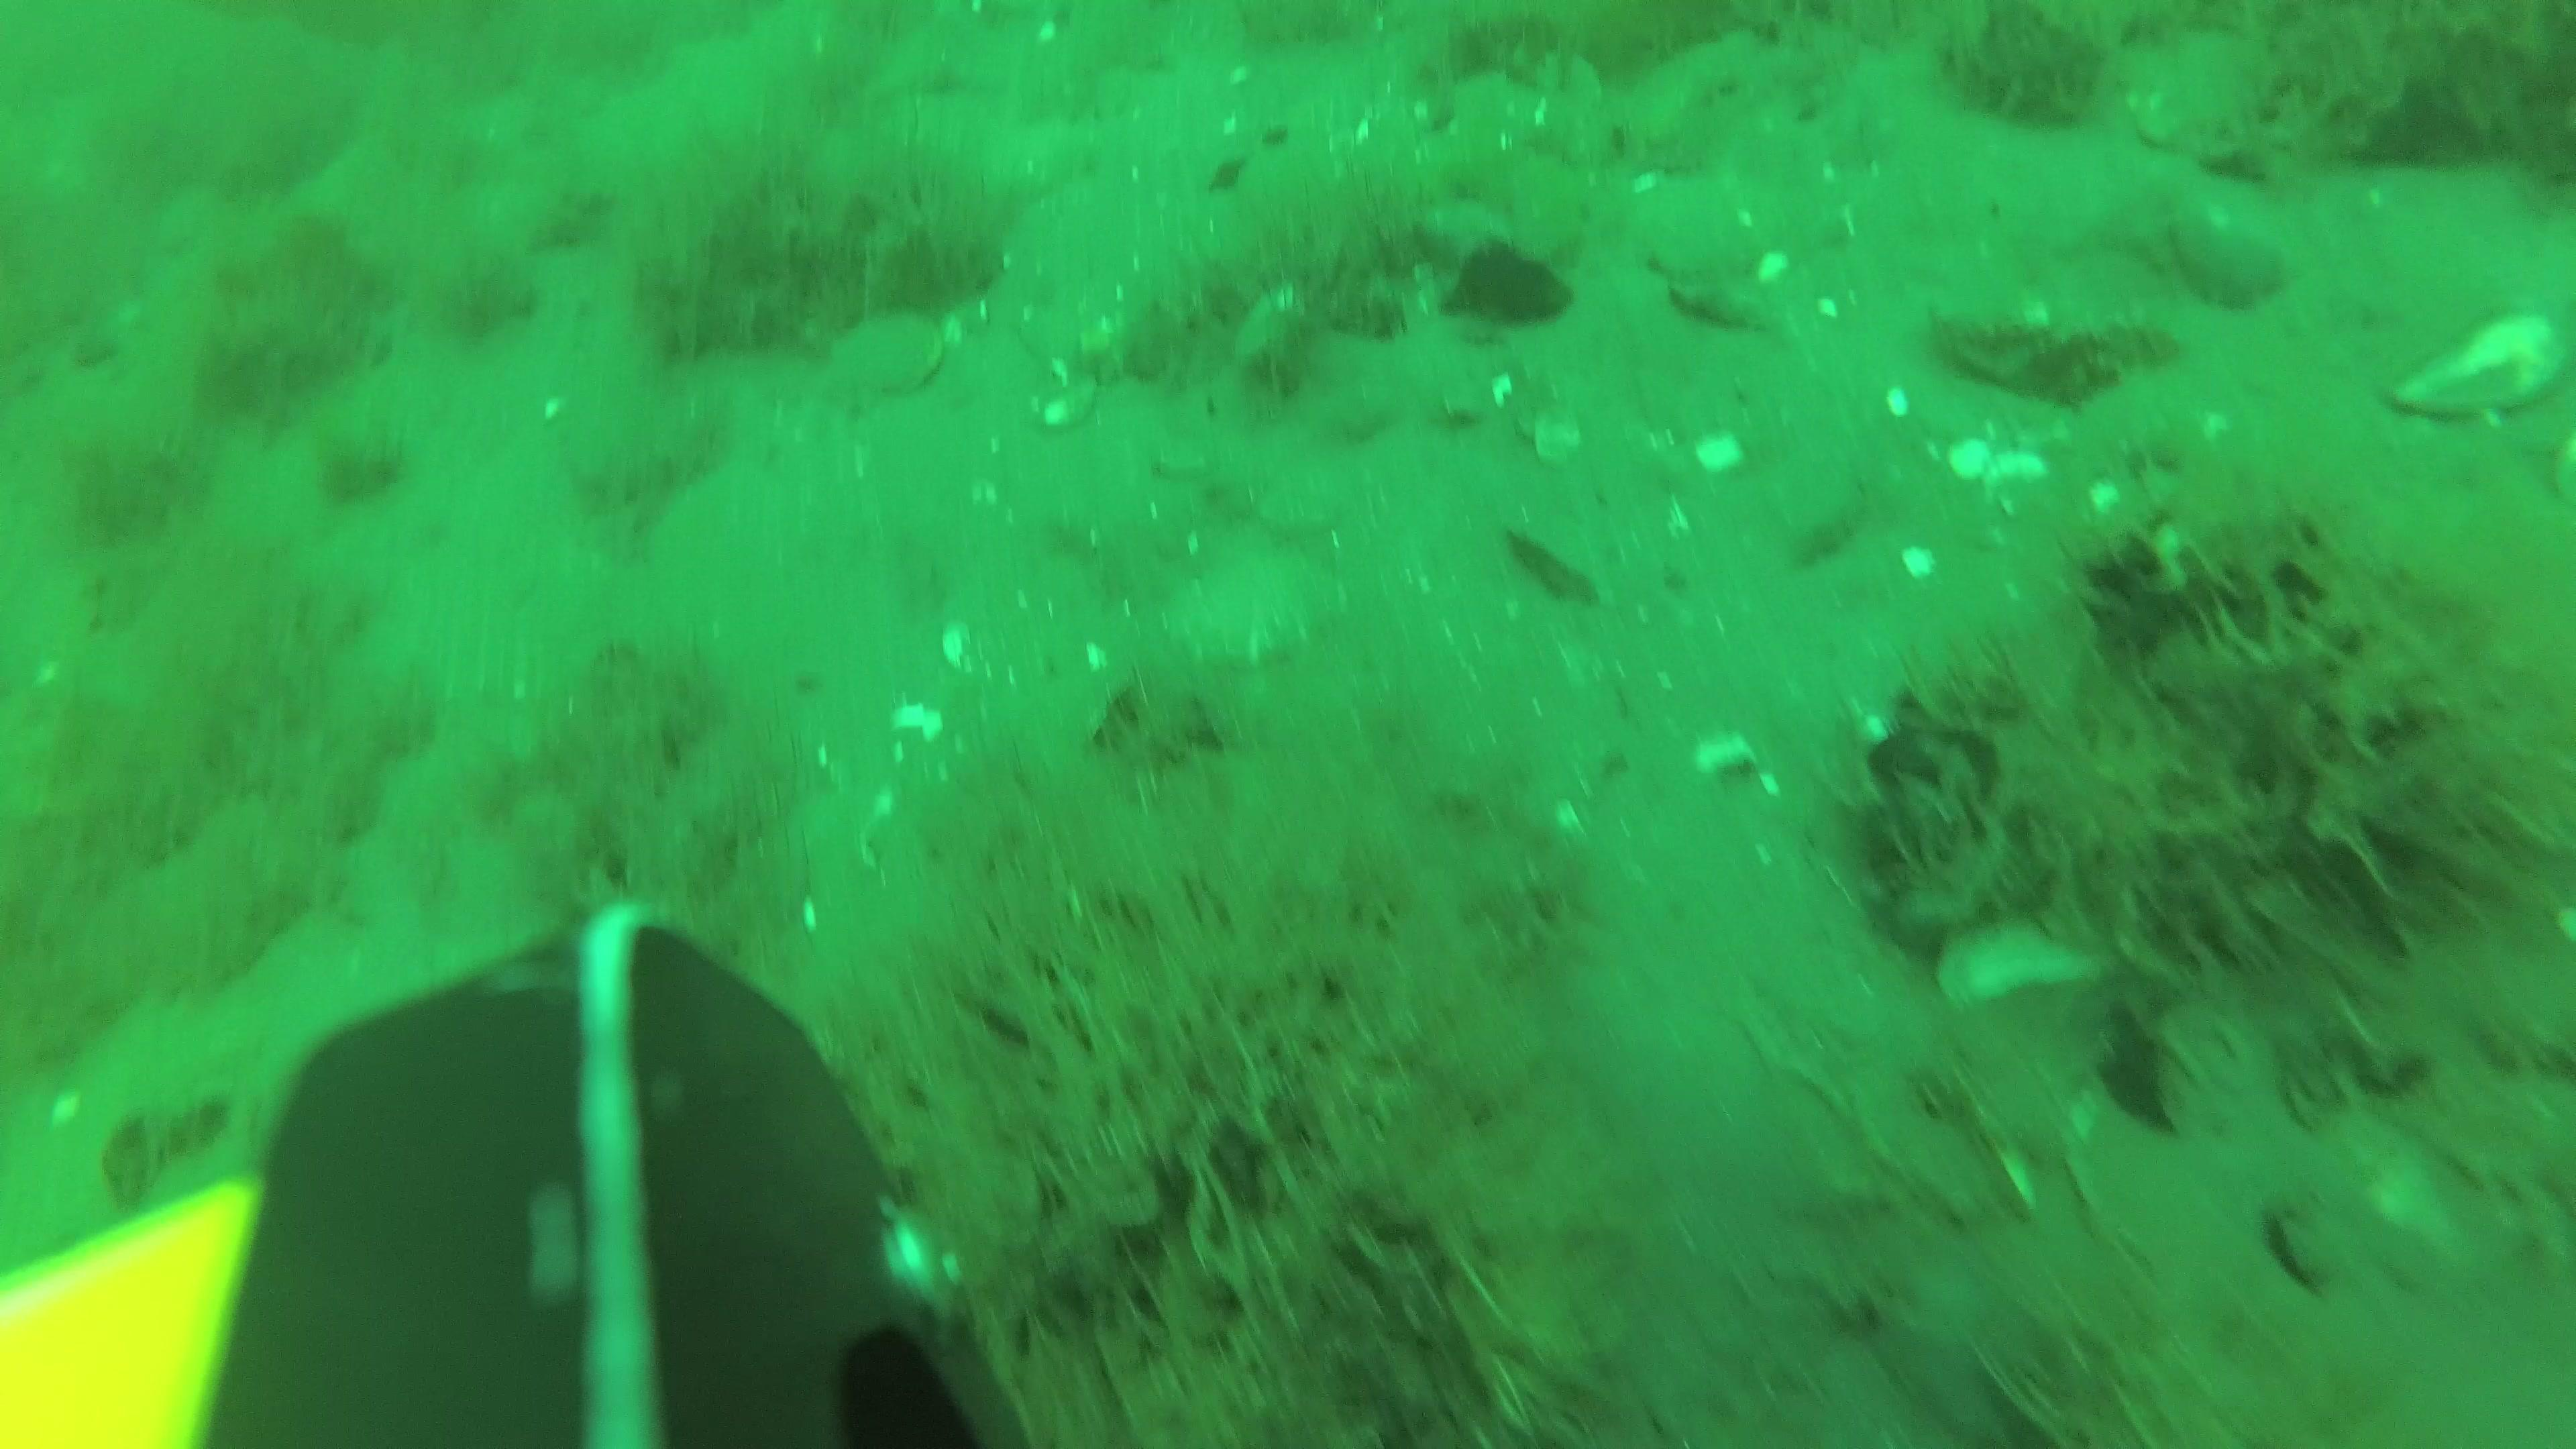scallop: (1157, 556, 1341, 660), (821, 308, 952, 395), (1649, 198, 1767, 280), (1258, 474, 1343, 531)
